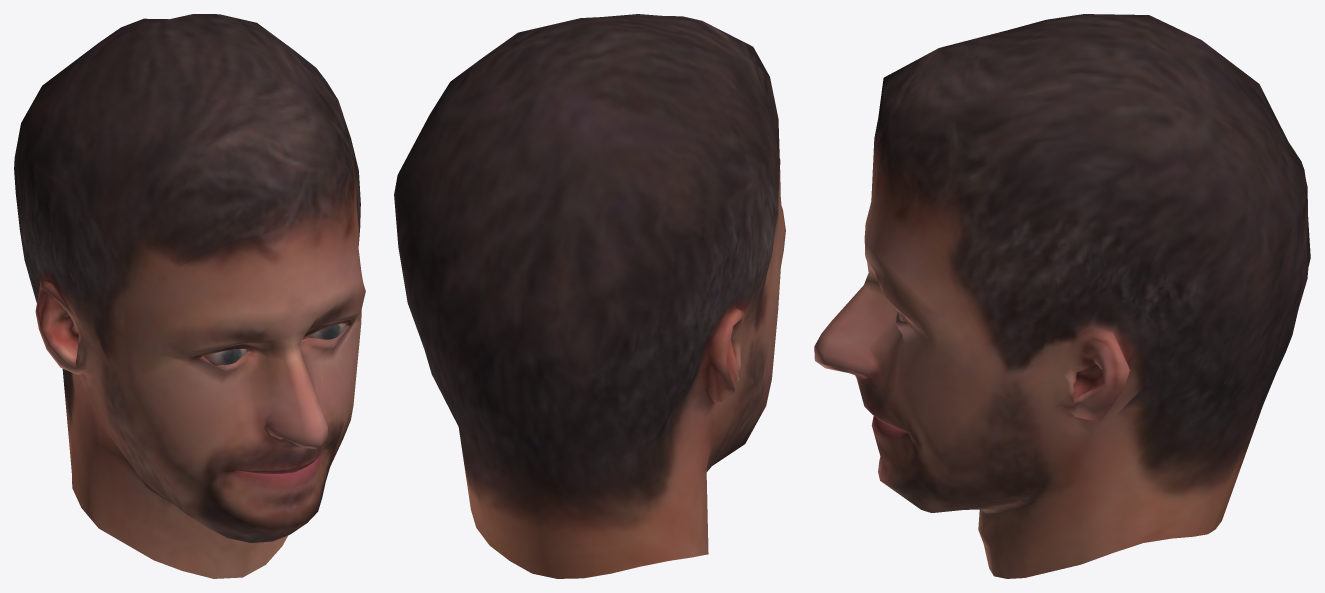
The model's file is rp_nathan.fbx.
The picture shows the model from 3 angles, left to right: view 1: azimuth 30°, elevation 25°; view 2: azimuth 150°, elevation 25°; view 3: azimuth 270°, elevation 25°; orthographic projection. The views are drawn at different scales.
Visible parts, largest first — view 1: polySurface5, polySurface6; view 2: polySurface5; view 3: polySurface5.
Boxes of the visible parts, x1,y1,x2,y2 form: polySurface5: (14, 14, 365, 578); polySurface6: (203, 349, 246, 365); polySurface5: (394, 14, 785, 578); polySurface5: (814, 14, 1310, 578).
Size of the model in its own units: 17.16 by 29.07 by 24.1.
